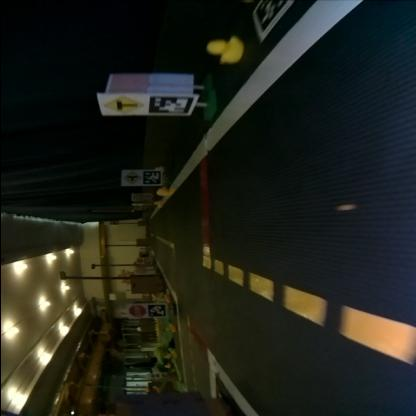Duckie: (206, 38, 242, 64), (154, 187, 168, 196), (153, 201, 161, 208)
Intersection sign: (102, 96, 142, 114), (121, 171, 139, 184)
QR code: (250, 2, 292, 42), (146, 98, 192, 114), (141, 171, 159, 183)
Stop sign: (126, 306, 144, 316)
